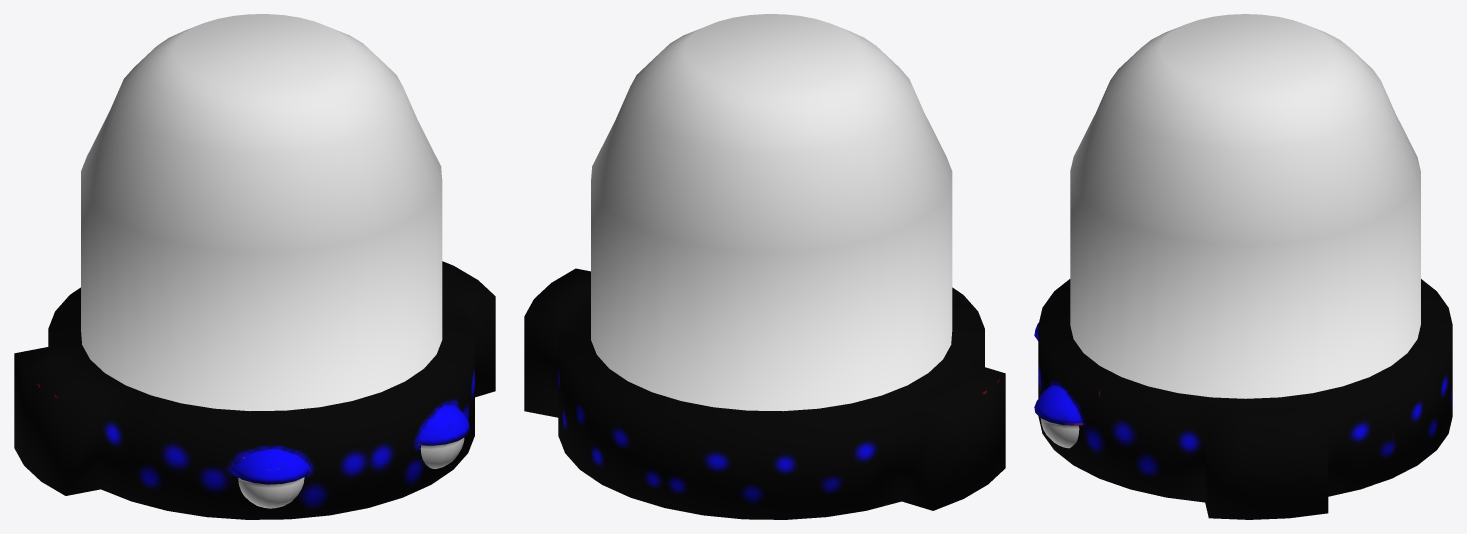
Rendered from FishCharacter.fbx.
3 renders of one model, left to right at view 1: azimuth 30°, elevation 25°; view 2: azimuth 150°, elevation 25°; view 3: azimuth 270°, elevation 25°, orthographic. The views are drawn at different scales.
Visible parts, largest first — view 1: Capsule; view 2: Capsule; view 3: Capsule.
Part boxes in pixels (x1,y1,x2,y2): Capsule: (14, 14, 495, 519); Capsule: (524, 14, 1005, 519); Capsule: (1034, 14, 1452, 519).
Size of the model in its own units: 409 by 358 by 350.
